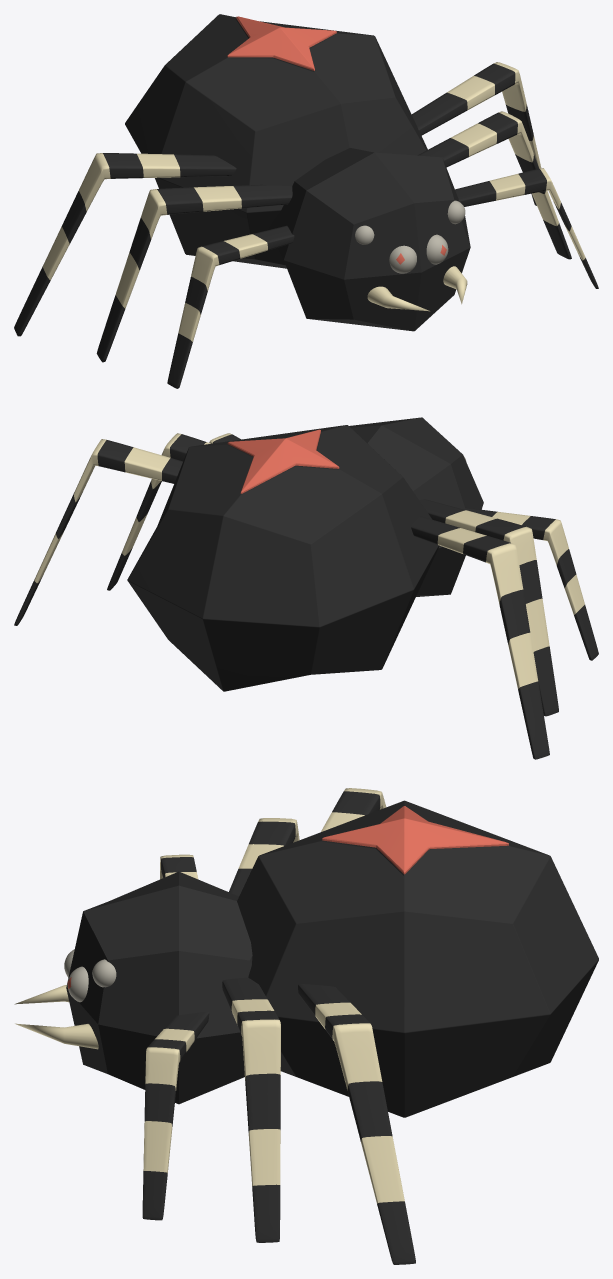
Rendered from Greybox_Spider_Mesh.fbx.
3 views of the same model, one above another, from view 1: azimuth 30°, elevation 25°; view 2: azimuth 150°, elevation 25°; view 3: azimuth 270°, elevation 25° (orthographic). The views are drawn at different scales.
Visible parts, largest first — view 1: pCube1, pCube2, pCube8, pCube6, pCube4, pCube5, pCube7, pCube3, pCone1, pSphere2, pSphere3, pCone2; view 2: pCube1, pCube2, pCube8, pCube6, pCube7, pCube4, pCube5; view 3: pCube1, pCube2, pCube7, pCube5, pCube3, pCube6, pCube8, pCone2, pCube4.
Boxes of the visible parts, box(x1,y1,x2,y2) form: pCube1: box(125, 14, 427, 268); pCube2: box(268, 148, 470, 331); pCube8: box(14, 153, 236, 336); pCube6: box(96, 184, 292, 362); pCube4: box(167, 225, 294, 388); pCube5: box(417, 111, 571, 259); pCube7: box(411, 62, 541, 205); pCube3: box(455, 168, 598, 288); pCone1: box(367, 286, 429, 311); pSphere2: box(389, 245, 416, 273); pSphere3: box(426, 234, 448, 264); pCone2: box(443, 266, 467, 304); pCube1: box(127, 425, 439, 691); pCube2: box(349, 417, 483, 596); pCube8: box(411, 516, 549, 759); pCube6: box(419, 499, 558, 716); pCube7: box(14, 439, 182, 625); pCube4: box(464, 508, 598, 660); pCube5: box(107, 433, 210, 590); pCube1: box(237, 800, 598, 1117); pCube2: box(66, 871, 252, 1104); pCube7: box(298, 984, 415, 1264); pCube5: box(222, 977, 280, 1242); pCube3: box(142, 1012, 209, 1220); pCube6: box(229, 818, 299, 896); pCube8: box(321, 788, 386, 831); pCone2: box(15, 1023, 98, 1049); pCube4: box(160, 854, 198, 879).
Size of the model in its own units: 0.8459 by 0.3795 by 0.6797.
